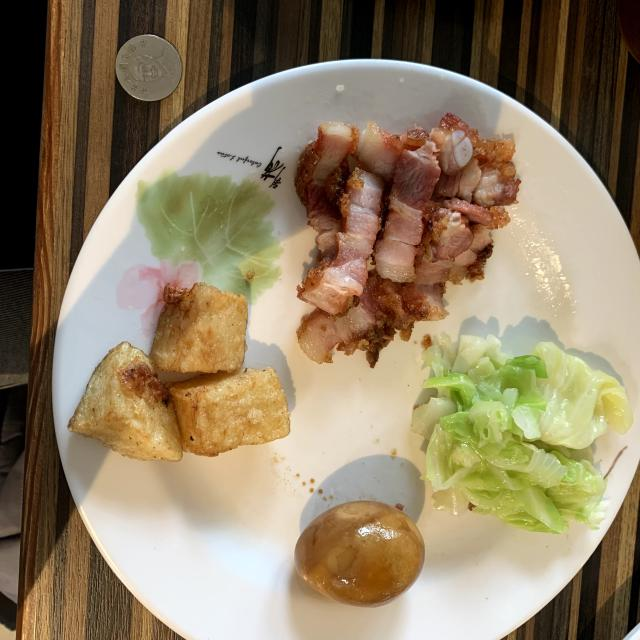cabbage: (411, 335, 632, 532)
coin: (115, 35, 182, 101)
fried potato: (69, 282, 290, 461)
red grilled pork: (295, 114, 520, 366)
soy egg: (295, 501, 425, 606)
